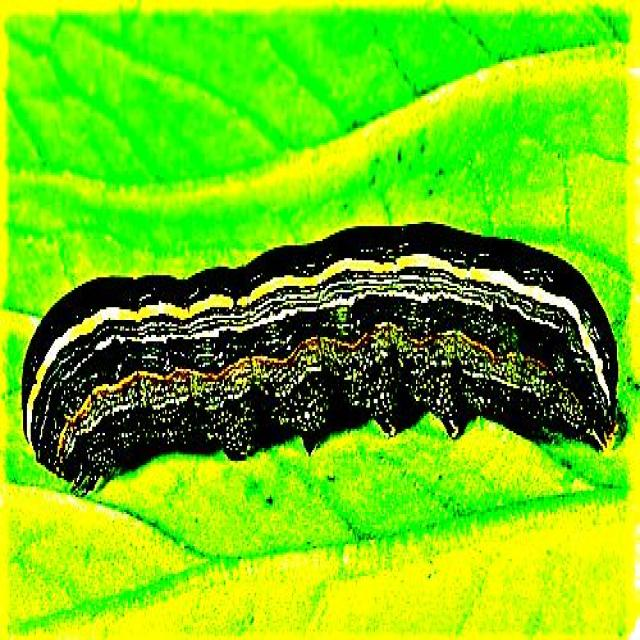Armyworm: (1, 205, 628, 521)
